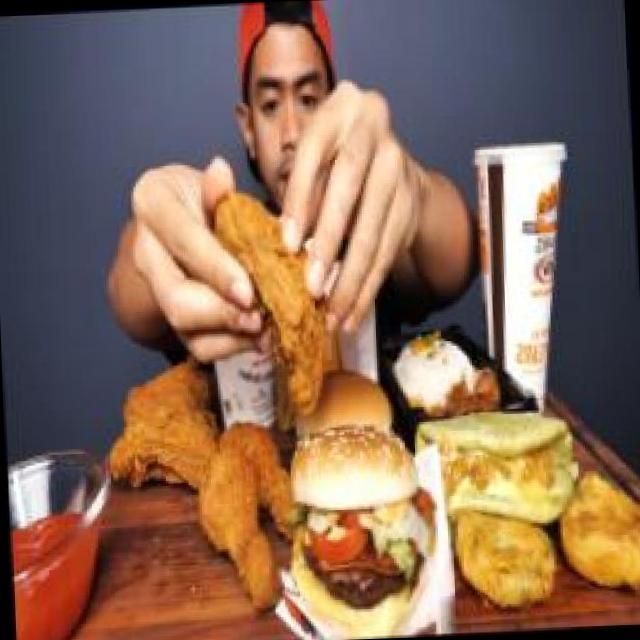AW cola: (461, 131, 578, 403)
black pepper rice bowl: (391, 316, 514, 420)
cheese burger: (284, 348, 398, 457)
fried chicken: (100, 336, 308, 608), (200, 174, 342, 431)
mango chicken pocket: (405, 391, 593, 542)
mozza burger: (278, 416, 441, 640)
perkedel: (452, 494, 564, 623), (555, 464, 640, 602)
